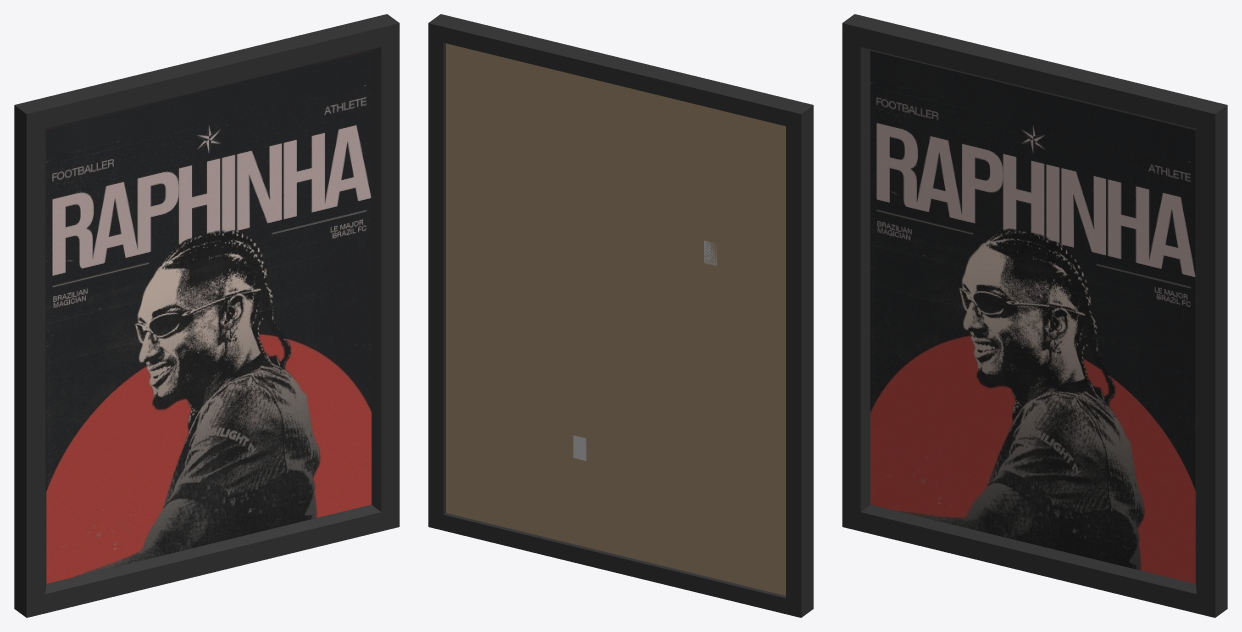
Rendered from raphinha-30x40.glb.
3 renders of one model, left to right at view 1: azimuth 30°, elevation 25°; view 2: azimuth 150°, elevation 25°; view 3: azimuth 330°, elevation 25°, orthographic.
Parts seen in each view (by area): view 1: LAWHA 30x40; view 2: LAWHA 30x40; view 3: LAWHA 30x40.
Boxes of the visible parts, box(x1,y1,x2,y2) form: LAWHA 30x40: box(14, 14, 399, 617); LAWHA 30x40: box(428, 14, 813, 617); LAWHA 30x40: box(842, 14, 1227, 617).
Bounding box in the file's own units: 0.344 × 0.444 × 0.02.
4 materials, 1 textured.
